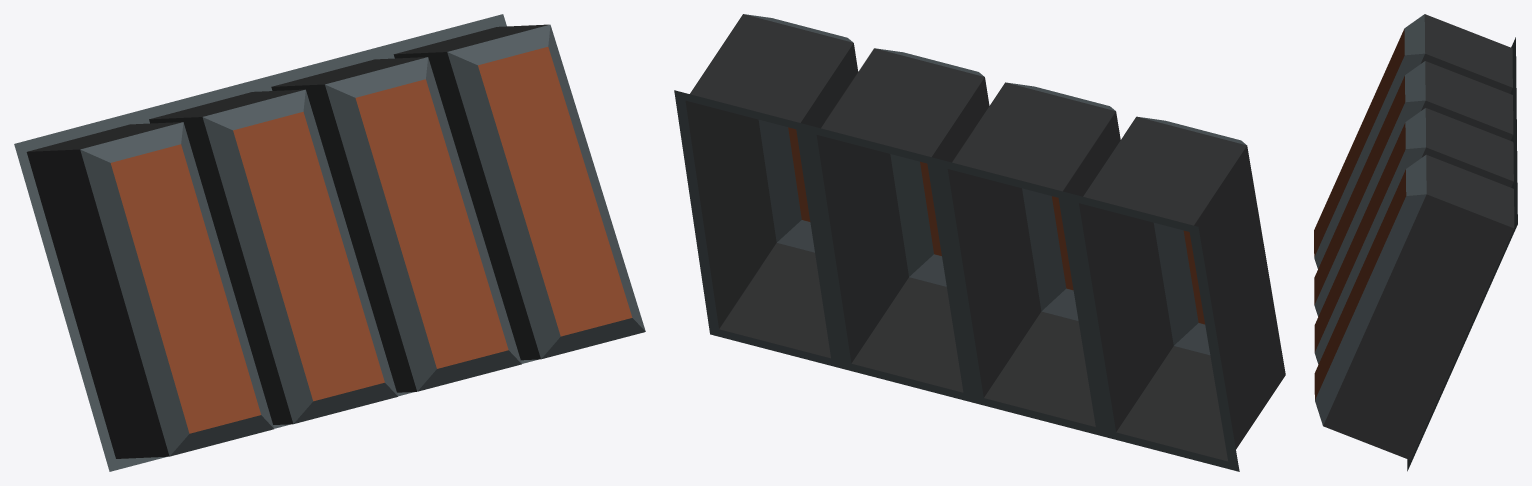
File: Battery Upgrade #2.fbx
The picture shows the model from 3 angles, left to right: view 1: azimuth 30°, elevation 25°; view 2: azimuth 150°, elevation 25°; view 3: azimuth 270°, elevation 25°; orthographic projection. The views are drawn at different scales.
Parts seen in each view (by area): view 1: Battery Upgrade #2; view 2: Battery Upgrade #2; view 3: Battery Upgrade #2.
Boxes of the visible parts, bbox=[...] form: Battery Upgrade #2: bbox=[14, 14, 645, 471]; Battery Upgrade #2: bbox=[674, 14, 1285, 471]; Battery Upgrade #2: bbox=[1314, 14, 1517, 471].
Size of the model in its own units: 73.57 by 43.95 by 30.36.
